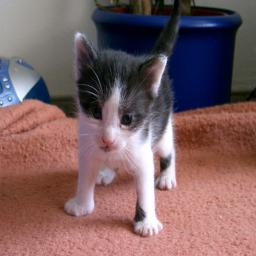catnose: (101, 130, 115, 147)
